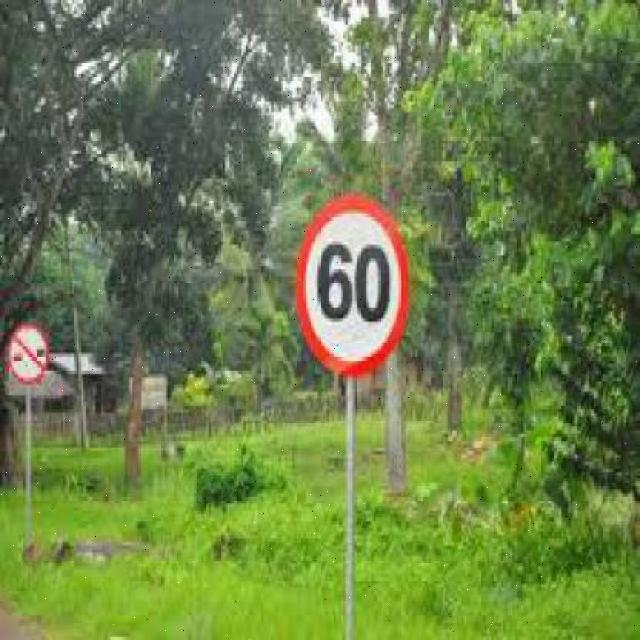speed limit 60: (296, 196, 408, 375)
